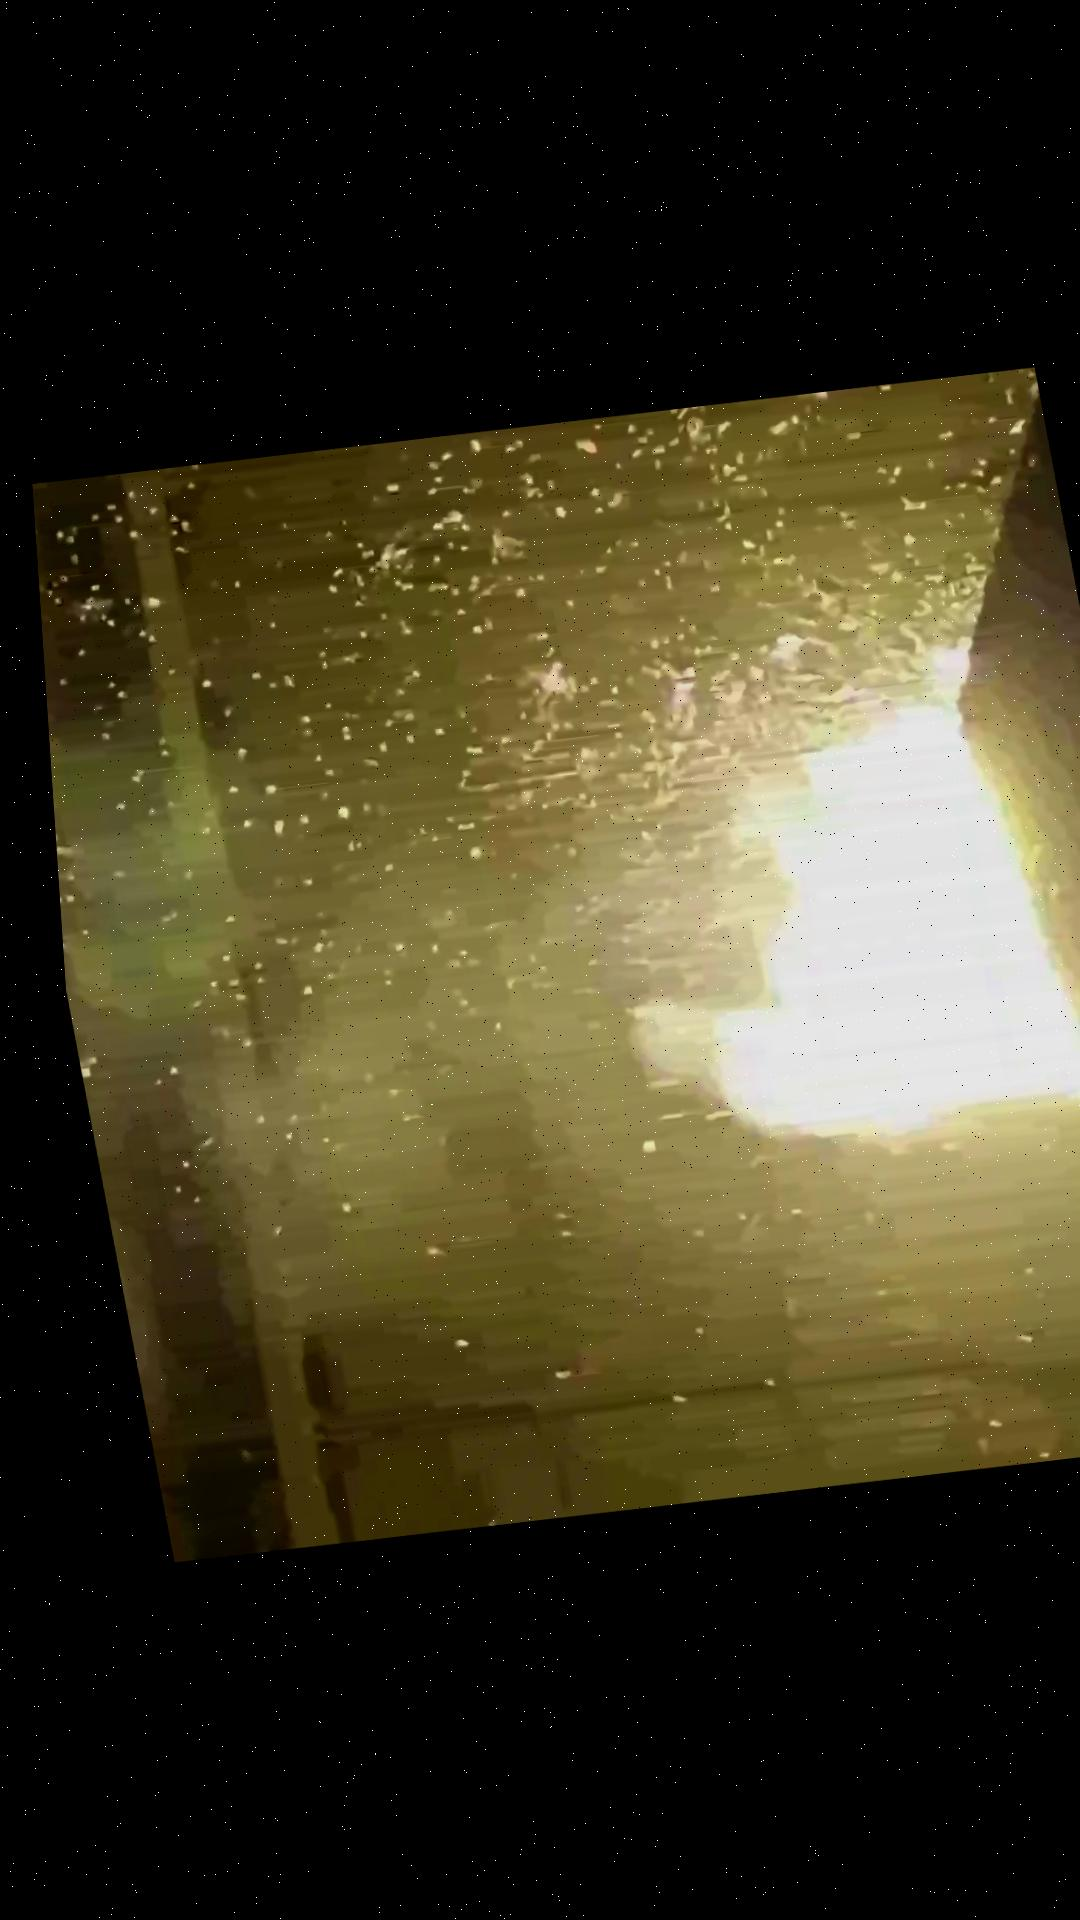fire: (131, 411, 1080, 1385)
